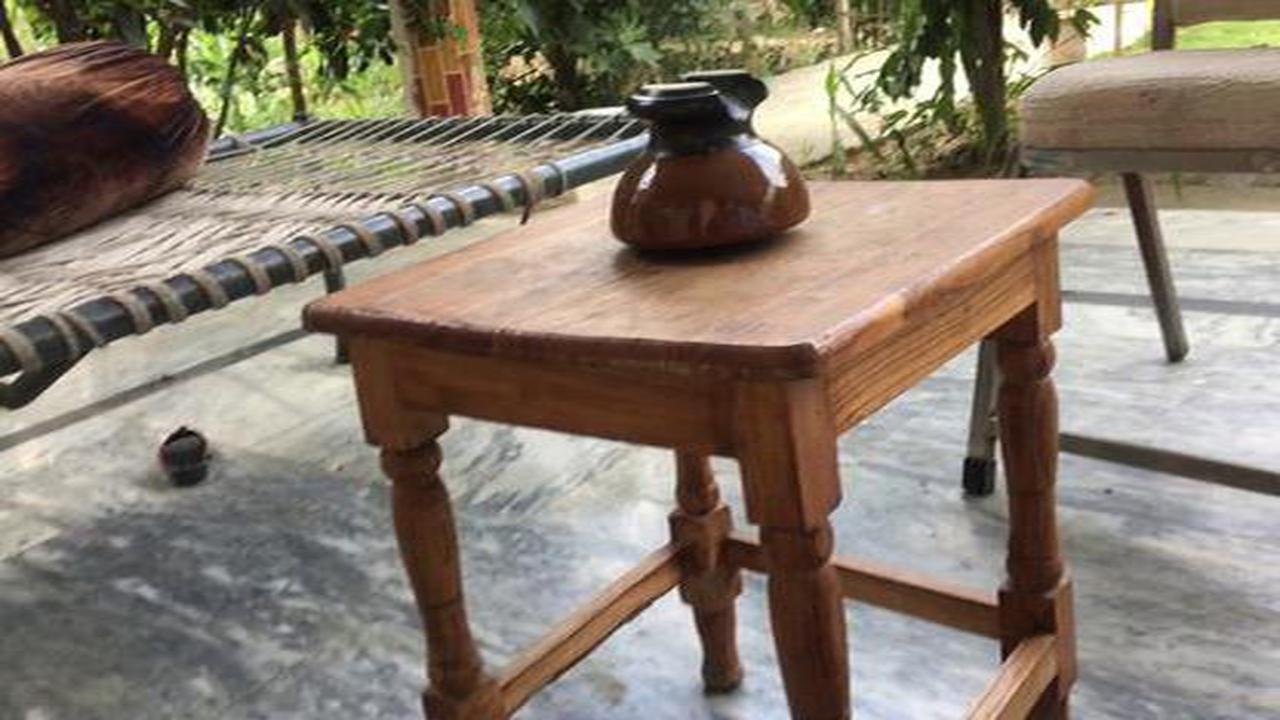insulator_pin: (576, 59, 825, 274)
